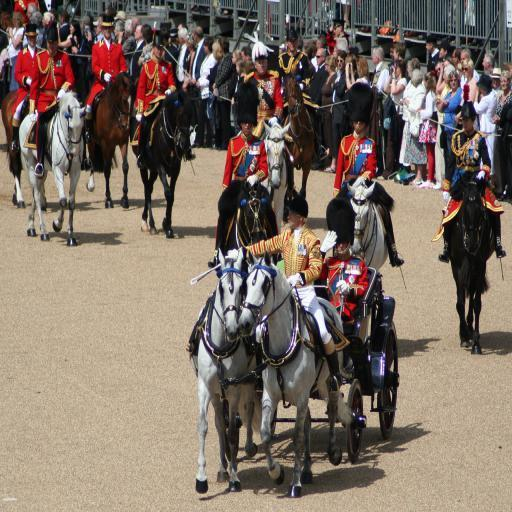horse: (194, 62, 396, 498), (127, 86, 199, 239), (18, 90, 86, 246), (441, 172, 498, 358), (83, 70, 140, 209), (0, 87, 20, 206)
